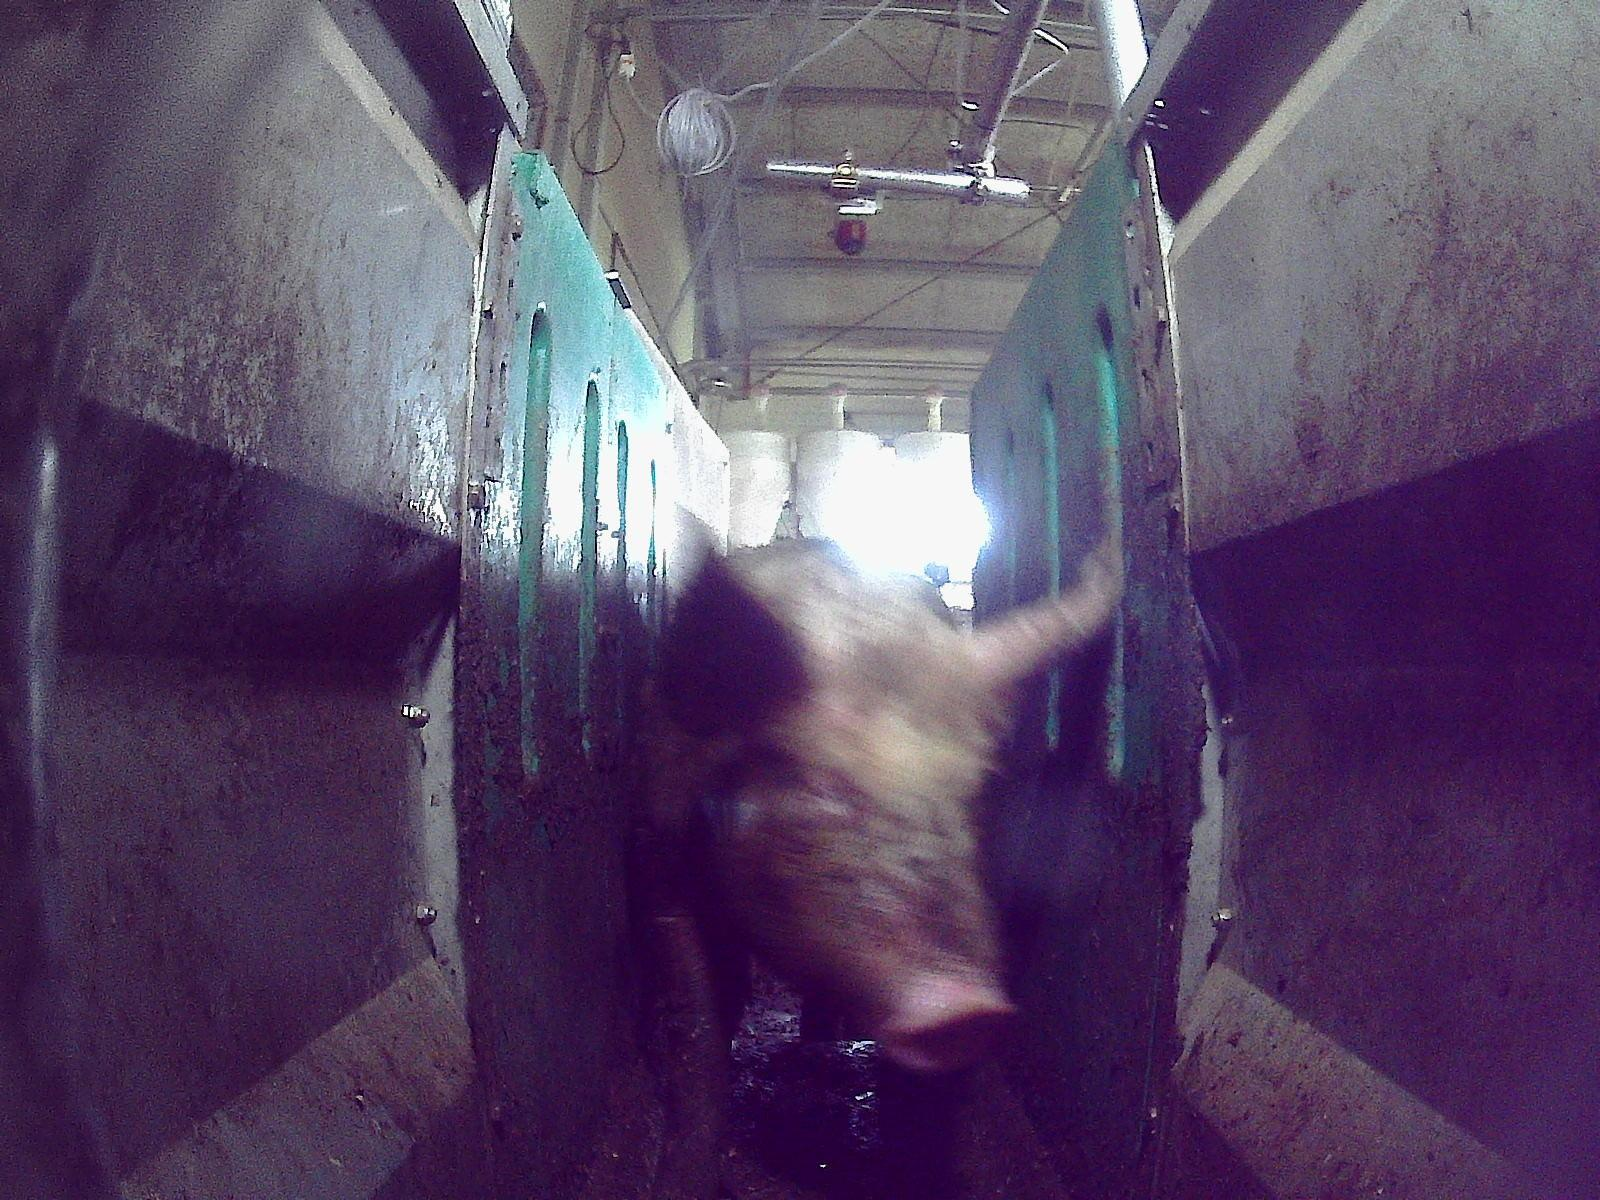Face: (713, 660, 1018, 1070)
